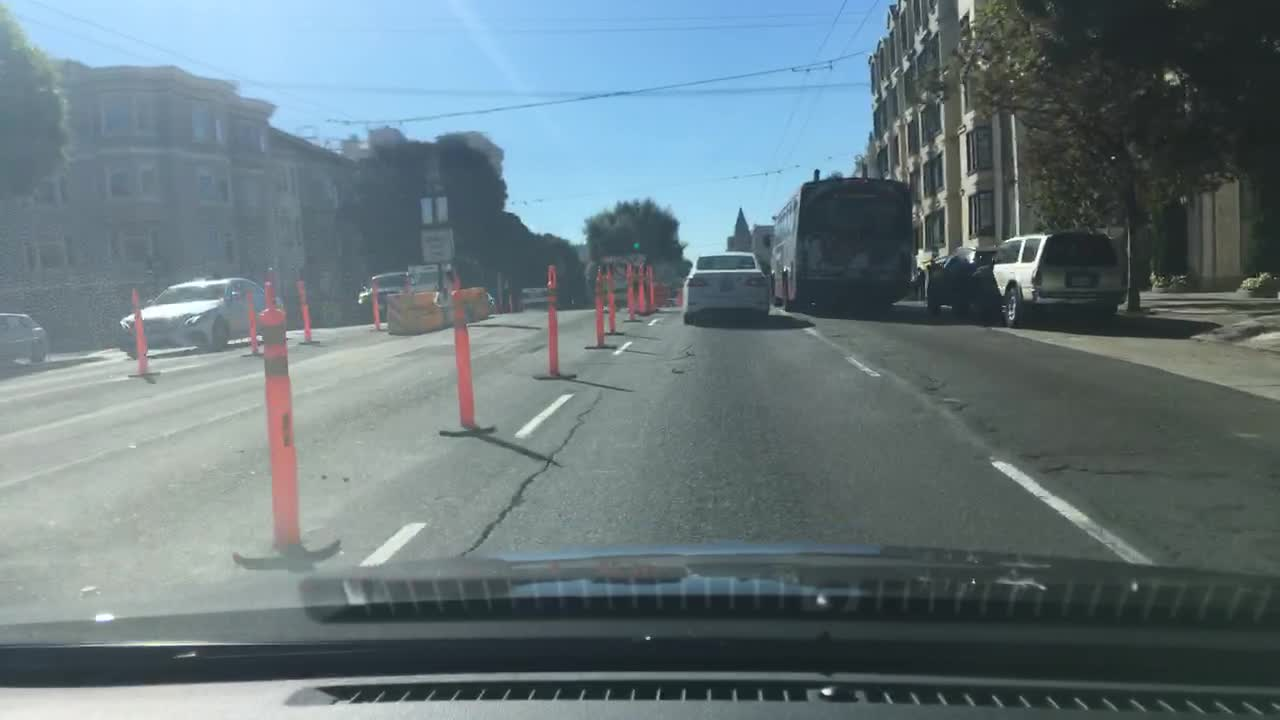bus: (768, 178, 913, 313)
car: (987, 233, 1130, 330), (116, 281, 292, 359), (684, 252, 772, 326), (353, 271, 440, 327), (930, 243, 993, 315), (0, 308, 50, 365), (597, 256, 652, 307), (745, 226, 774, 270), (517, 283, 551, 308)
person: (911, 260, 926, 300)
